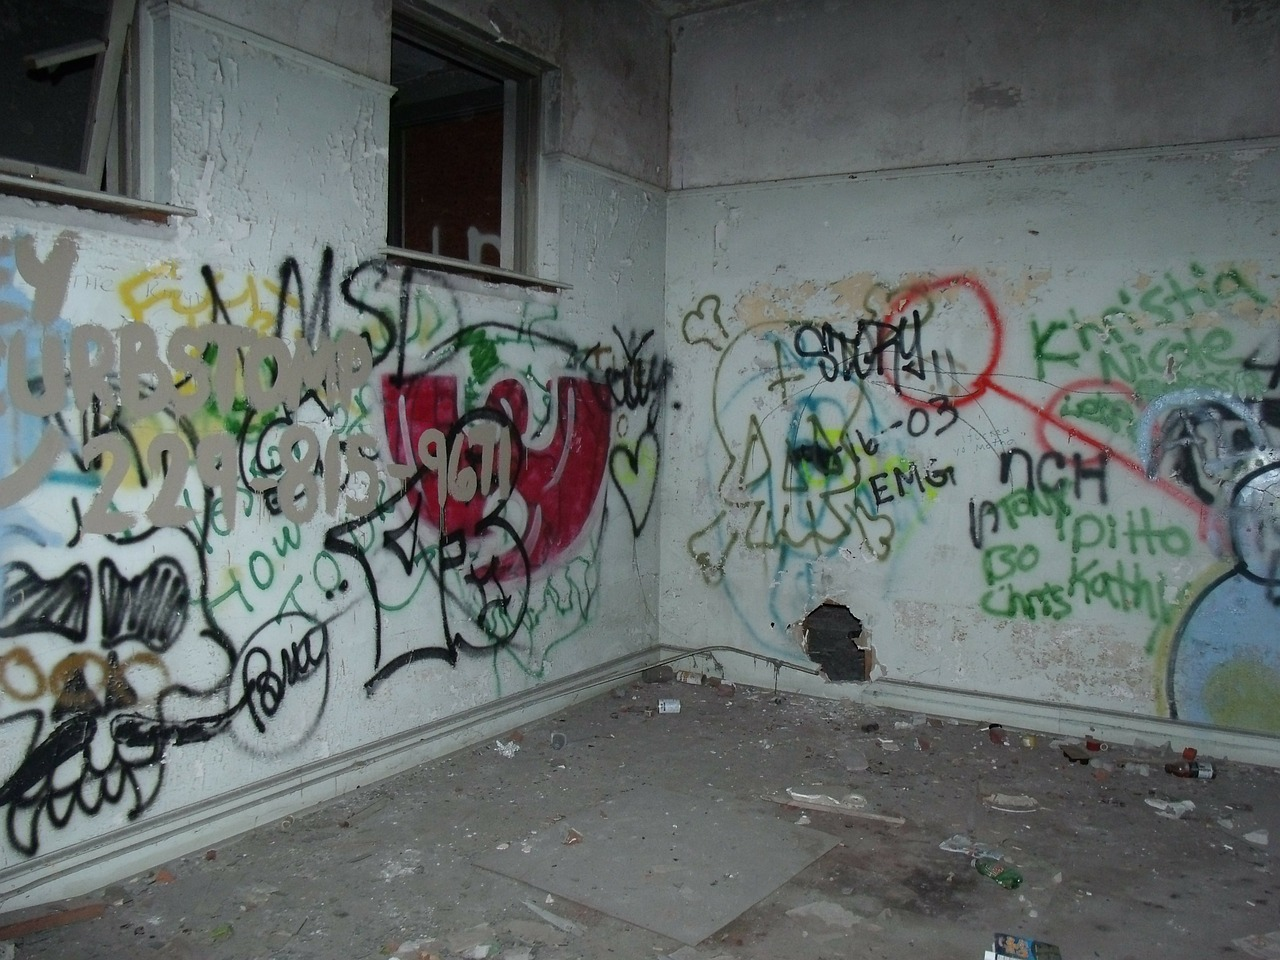graphite: (355, 311, 694, 667), (1, 225, 378, 545), (697, 290, 988, 596), (1, 538, 247, 833), (967, 452, 1182, 637), (1038, 279, 1280, 427), (1166, 462, 1280, 736), (239, 608, 364, 751)
